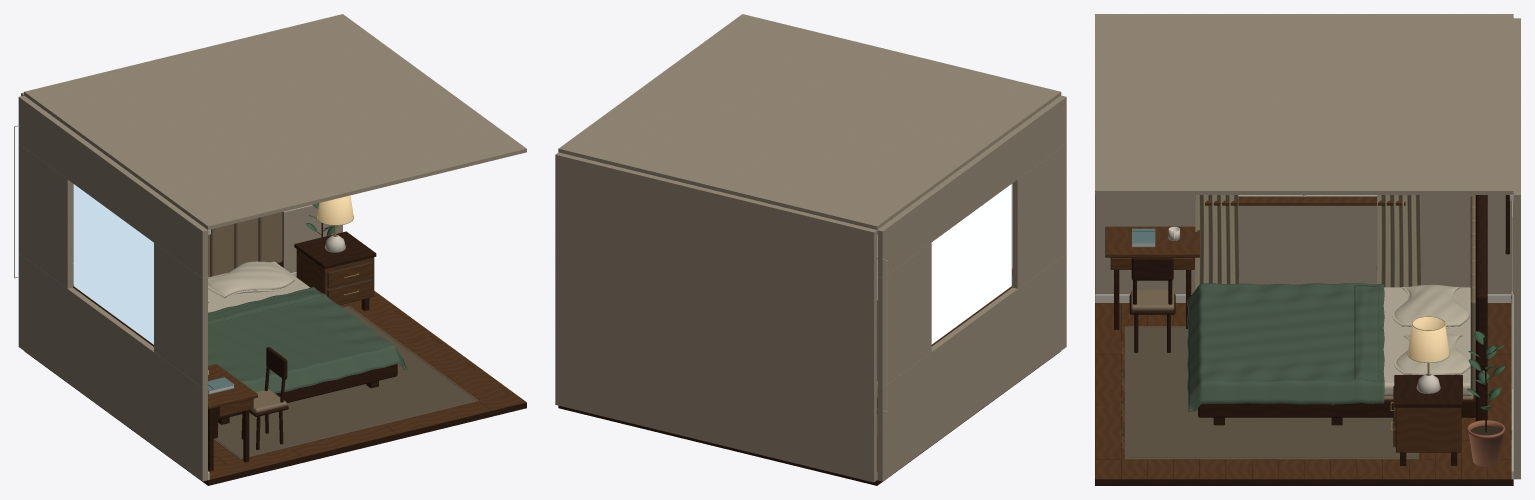
File: Bedroom_v01.glb
3 renders of one model, left to right at view 1: azimuth 30°, elevation 25°; view 2: azimuth 150°, elevation 25°; view 3: azimuth 270°, elevation 25°, orthographic. The views are drawn at different scales.
Visible parts, largest first — view 1: Ceiling_Panel_DisplayOnly, LeftWall_Below, Duvet_DrapedSageLinen, Rug_WovenBody, LeftWall_Above, Window_Glass, LeftWall_Back, LeftWall_Front, Floor_Substrate, Pillow_Right, BackWall, Nightstand_Top (+15 smaller); view 2: BackWall, Ceiling_Panel_DisplayOnly, LeftWall_Below, LeftWall_Above, Window_Glass, LeftWall_Front, LeftWall_Back, Floor_Substrate; view 3: Ceiling_Panel_DisplayOnly, LeftWall_Below, Duvet_DrapedSageLinen, Rug_WovenBody, Curtain_1_PleatedLinen, Curtain_0_PleatedLinen, BackWall, Floor_Substrate, Bed_TimberFrame, Nightstand_Carcass, Bed_Mattress, Headboard_TimberSurround (+35 smaller).
Part boxes in pixels (x1,y1,x2,y2): Ceiling_Panel_DisplayOnly: [24, 14, 526, 229]; LeftWall_Below: [18, 253, 207, 481]; Duvet_DrapedSageLinen: [208, 287, 408, 393]; Rug_WovenBody: [213, 306, 478, 459]; LeftWall_Above: [18, 95, 207, 278]; Window_Glass: [73, 184, 153, 344]; LeftWall_Back: [18, 144, 72, 288]; LeftWall_Front: [154, 243, 207, 387]; Floor_Substrate: [24, 351, 526, 485]; Pillow_Right: [208, 261, 294, 298]; BackWall: [21, 92, 342, 284]; Nightstand_Top: [294, 231, 376, 269]; BackWall: [555, 152, 876, 482]; Ceiling_Panel_DisplayOnly: [558, 14, 1061, 229]; LeftWall_Below: [877, 253, 1066, 481]; LeftWall_Above: [877, 95, 1066, 278]; Window_Glass: [931, 184, 1011, 344]; LeftWall_Front: [1012, 144, 1066, 288]; LeftWall_Back: [877, 243, 931, 387]; Floor_Substrate: [558, 351, 1060, 485]; Ceiling_Panel_DisplayOnly: [1095, 14, 1513, 194]; LeftWall_Below: [1095, 196, 1513, 294]; Duvet_DrapedSageLinen: [1187, 283, 1384, 411]; Rug_WovenBody: [1124, 326, 1418, 459]; Curtain_1_PleatedLinen: [1376, 195, 1421, 287]; Curtain_0_PleatedLinen: [1194, 195, 1239, 290]; BackWall: [1513, 18, 1520, 479]; Floor_Substrate: [1095, 303, 1513, 485]; Bed_TimberFrame: [1198, 395, 1475, 417]; Nightstand_Carcass: [1396, 407, 1461, 452]; Bed_Mattress: [1383, 287, 1472, 396]; Headboard_TimberSurround: [1475, 195, 1487, 421].
Bounding box in the file's own units: 66.08 × 49.8 × 65.1.
Materials: 20 (10 with a texture image).
